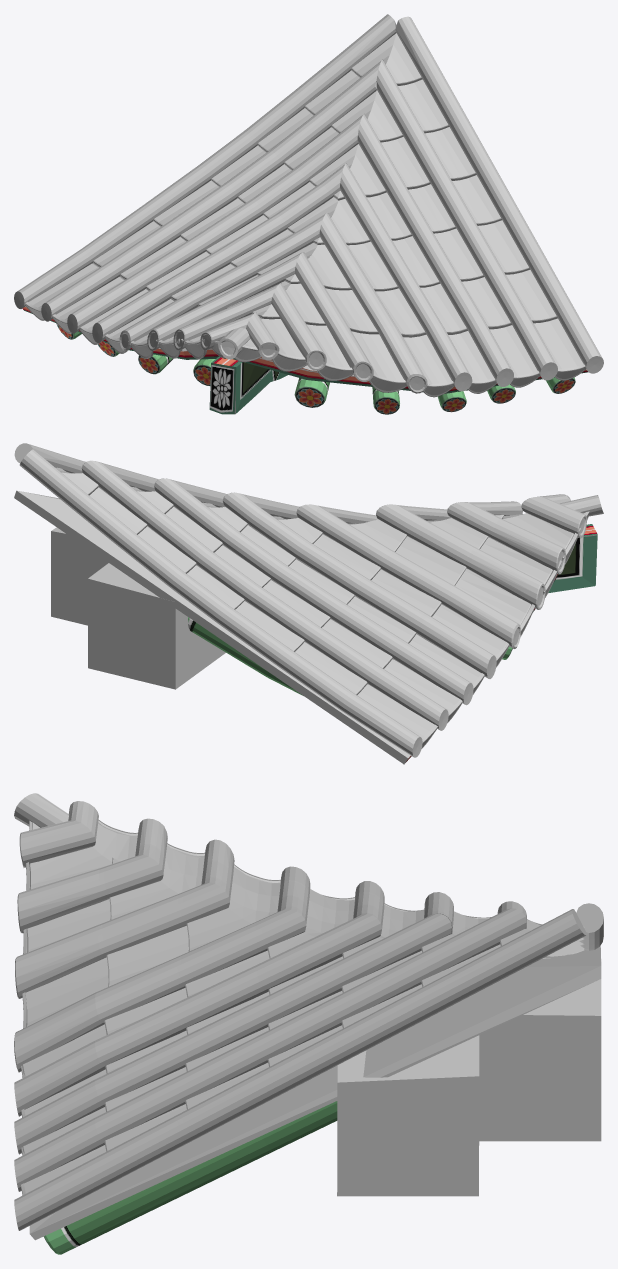
Rendered from SM_R_RoofCorner_22.fbx.
3 views of the same model, one above another, from view 1: azimuth 30°, elevation 25°; view 2: azimuth 150°, elevation 25°; view 3: azimuth 270°, elevation 25° (orthographic). The views are drawn at different scales.
Parts seen in each view (by area): view 1: SM_R_RoofCorner_22_LOD0; view 2: SM_R_RoofCorner_22_LOD0; view 3: SM_R_RoofCorner_22_LOD0.
Boxes of the visible parts, x1,y1,x2,y2 form: SM_R_RoofCorner_22_LOD0: (14, 14, 603, 414); SM_R_RoofCorner_22_LOD0: (14, 443, 603, 764); SM_R_RoofCorner_22_LOD0: (14, 793, 603, 1254).
Bounding box in the file's own units: 334 × 300 × 200.
